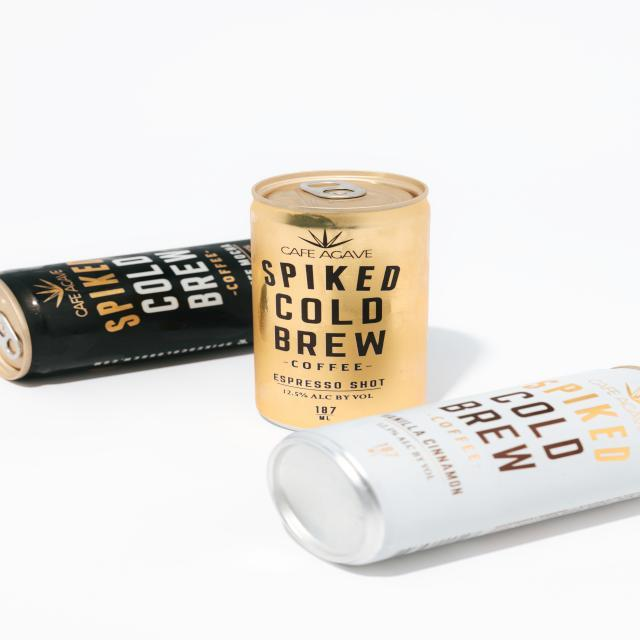can: (197, 416, 634, 556)
cans: (246, 151, 444, 434), (13, 234, 261, 382)
